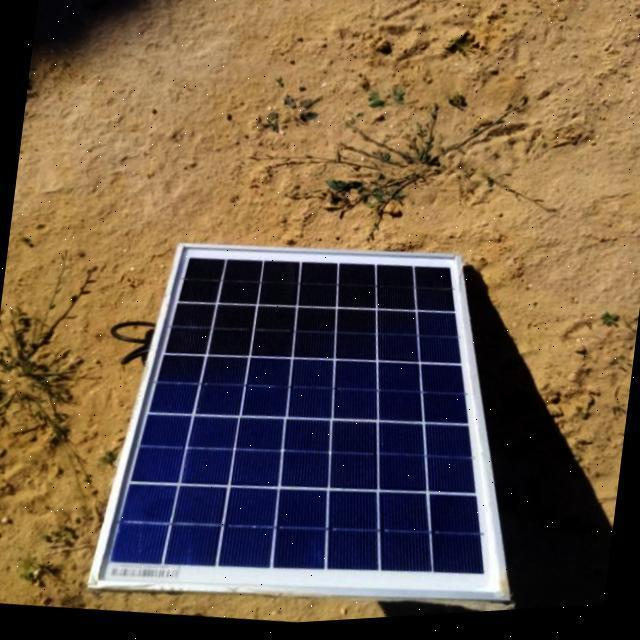Normal Solar Panel: (87, 215, 542, 636)
